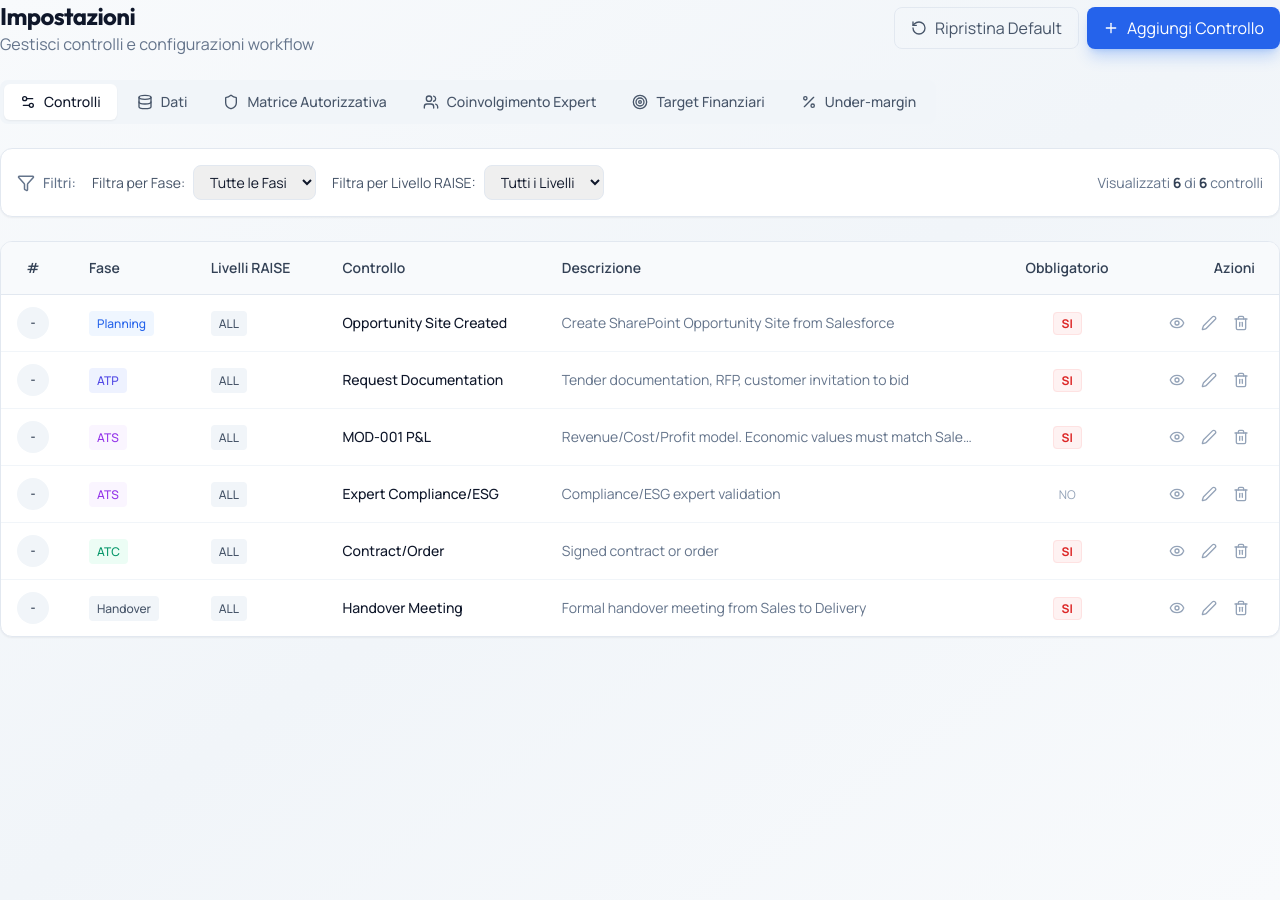
Scenario: Settings › Modal Interaction › should open modal when Aggiungi Controllo clicked
This screenshot has width=1280, height=900.
Click the button "Aggiungi Controllo" at (1183, 28), box [1087,7,1279,49]
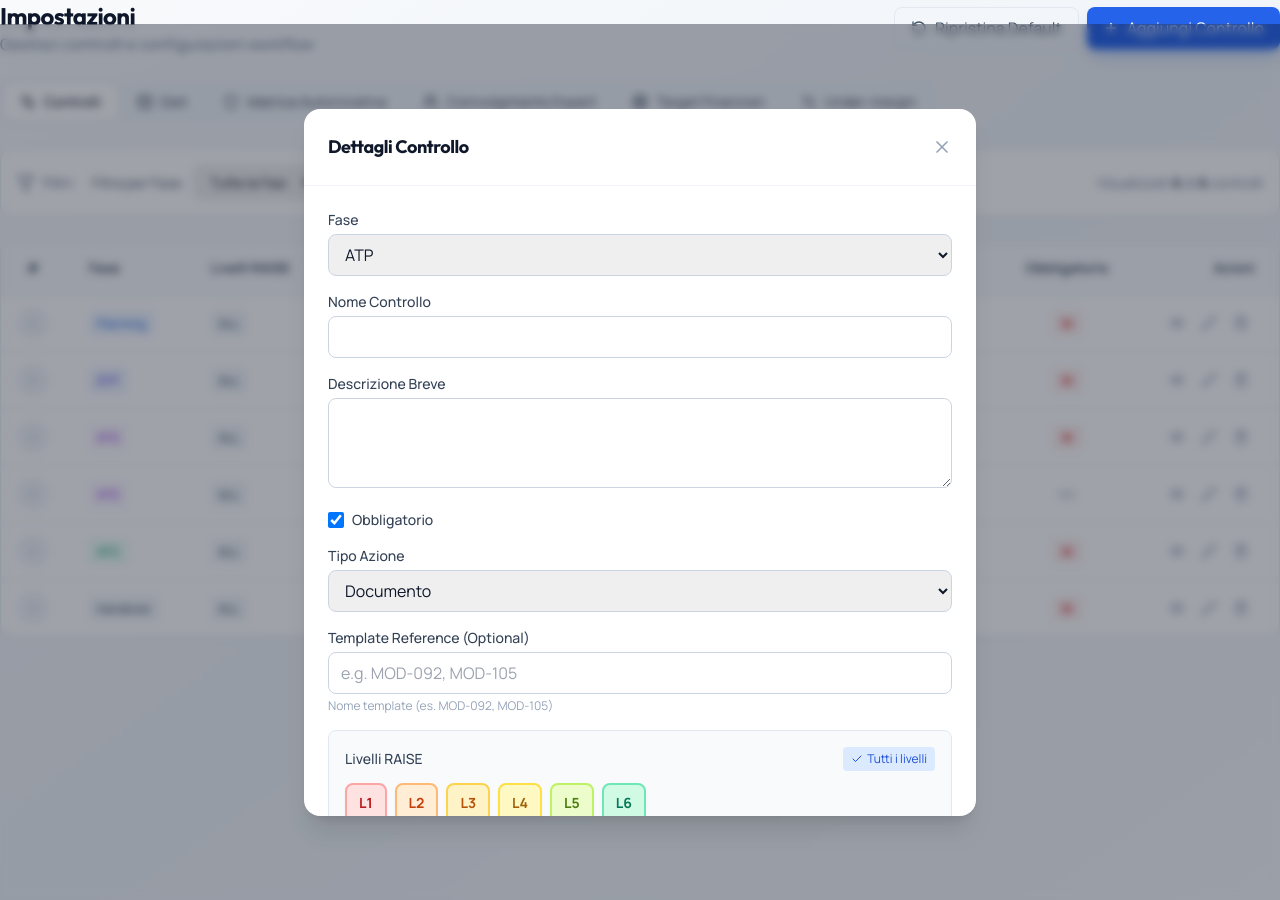
Expected: the heading "Dettagli Controllo" is shown, [328,132,469,160]
